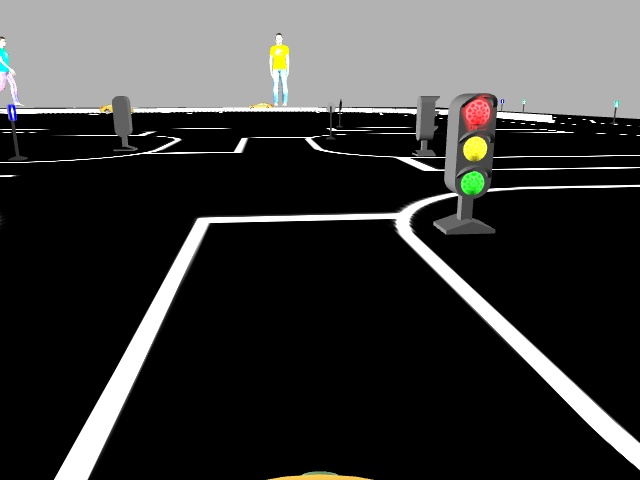TrafficLight: (442, 91, 495, 200)
